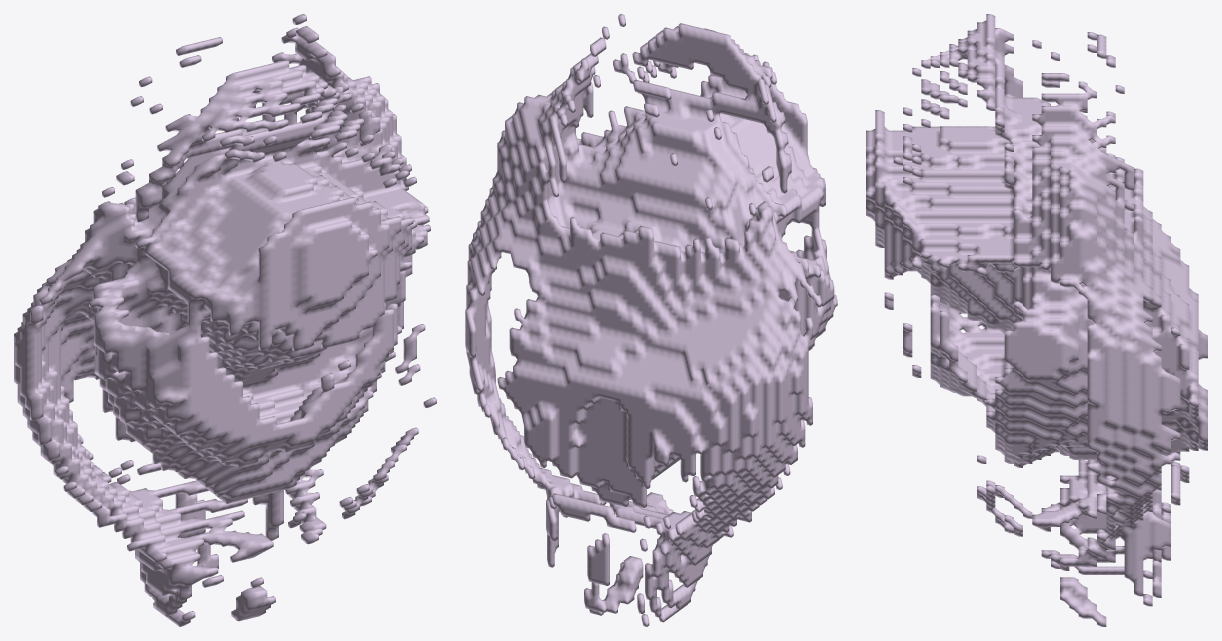
Rendered from region-10.glb.
The picture shows the model from 3 angles, left to right: view 1: azimuth 30°, elevation 25°; view 2: azimuth 150°, elevation 25°; view 3: azimuth 270°, elevation 25°; orthographic projection. The views are drawn at different scales.
Parts seen in each view (by area): view 1: digimouse-volume:10; view 2: digimouse-volume:10; view 3: digimouse-volume:10.
Boxes of the visible parts, left/top/right/bottom form: digimouse-volume:10: left=14, top=14, right=436, bottom=626; digimouse-volume:10: left=465, top=14, right=837, bottom=626; digimouse-volume:10: left=866, top=14, right=1207, bottom=626.
Bounding box in the file's own units: 0.009 × 0.0142 × 0.0074.
